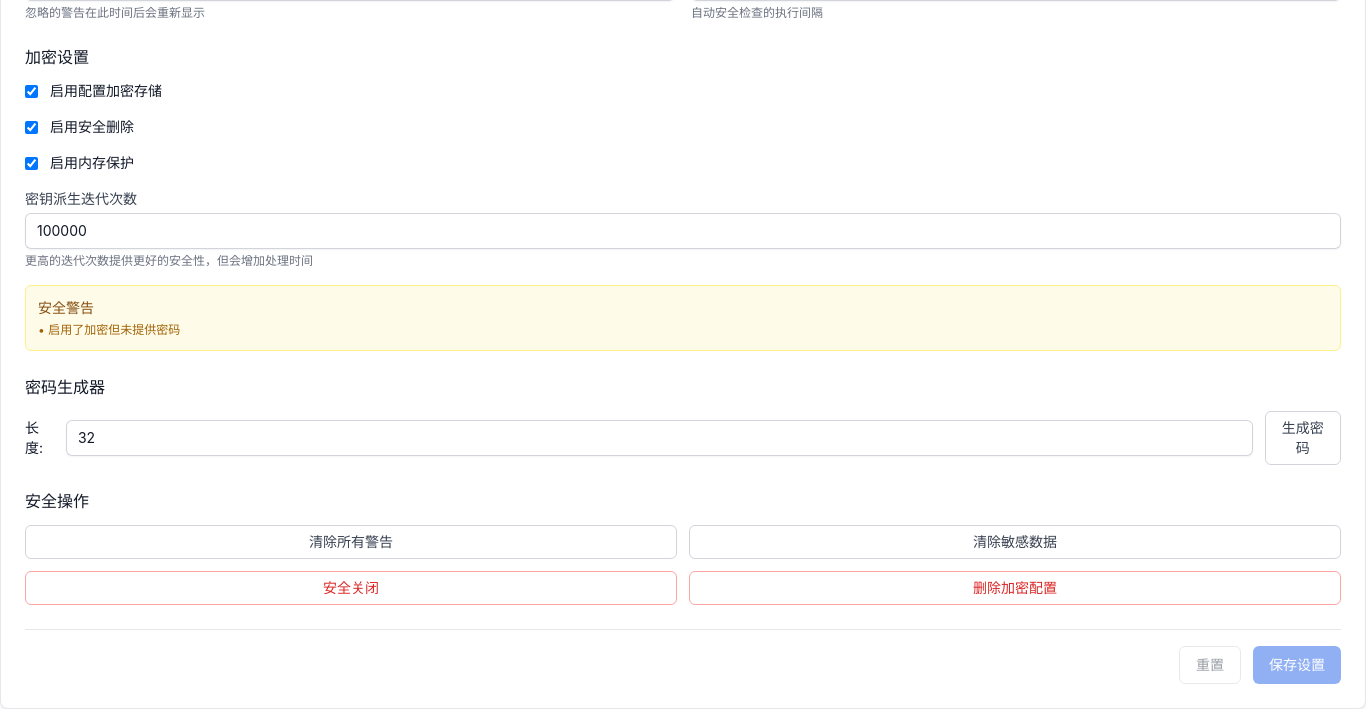
Scenario: Security Components Integration › SecuritySettings Component › should generate secure password
(page scrolled)
Click the button "生成密码" at (1303, 438), box [1264, 411, 1341, 465]
(page scrolled)
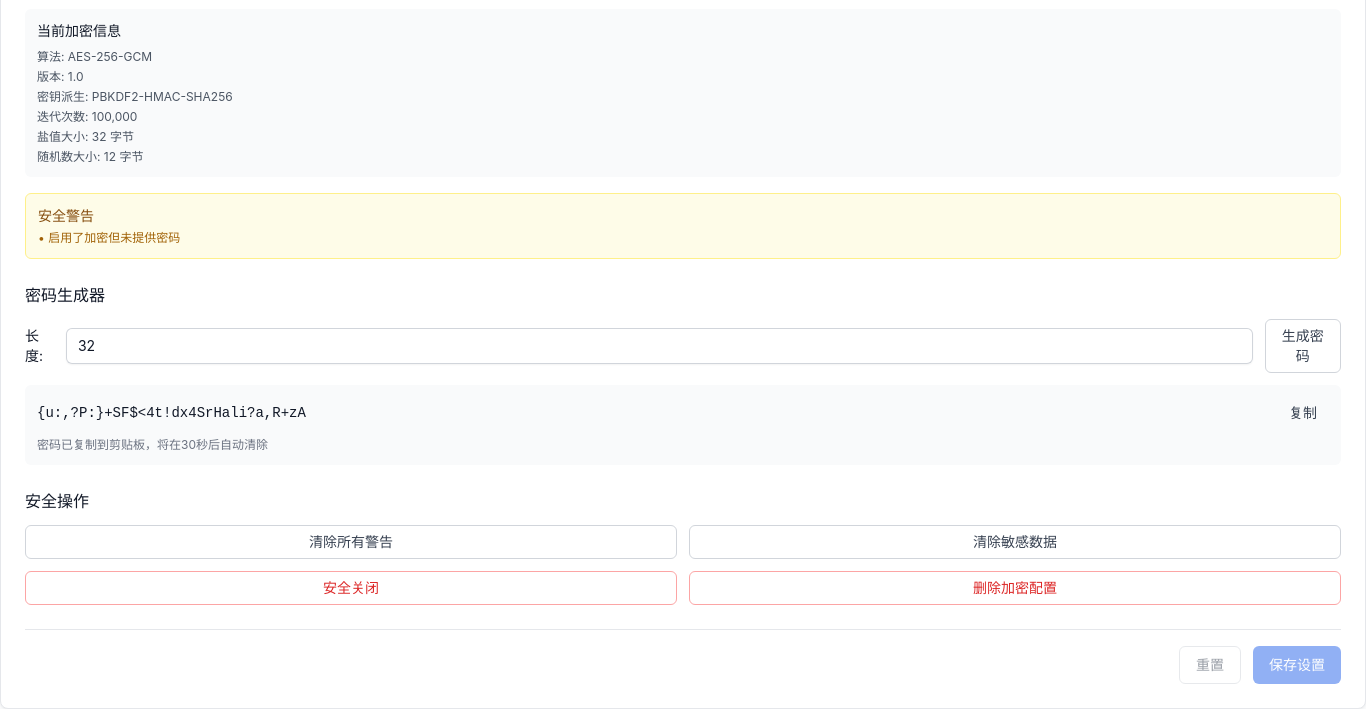
Check: the button "复制" is shown, box [1277, 397, 1329, 429]
Check: the text "密码已复制到剪贴板，将在30秒后自动清除" is shown, box [37, 437, 268, 452]
